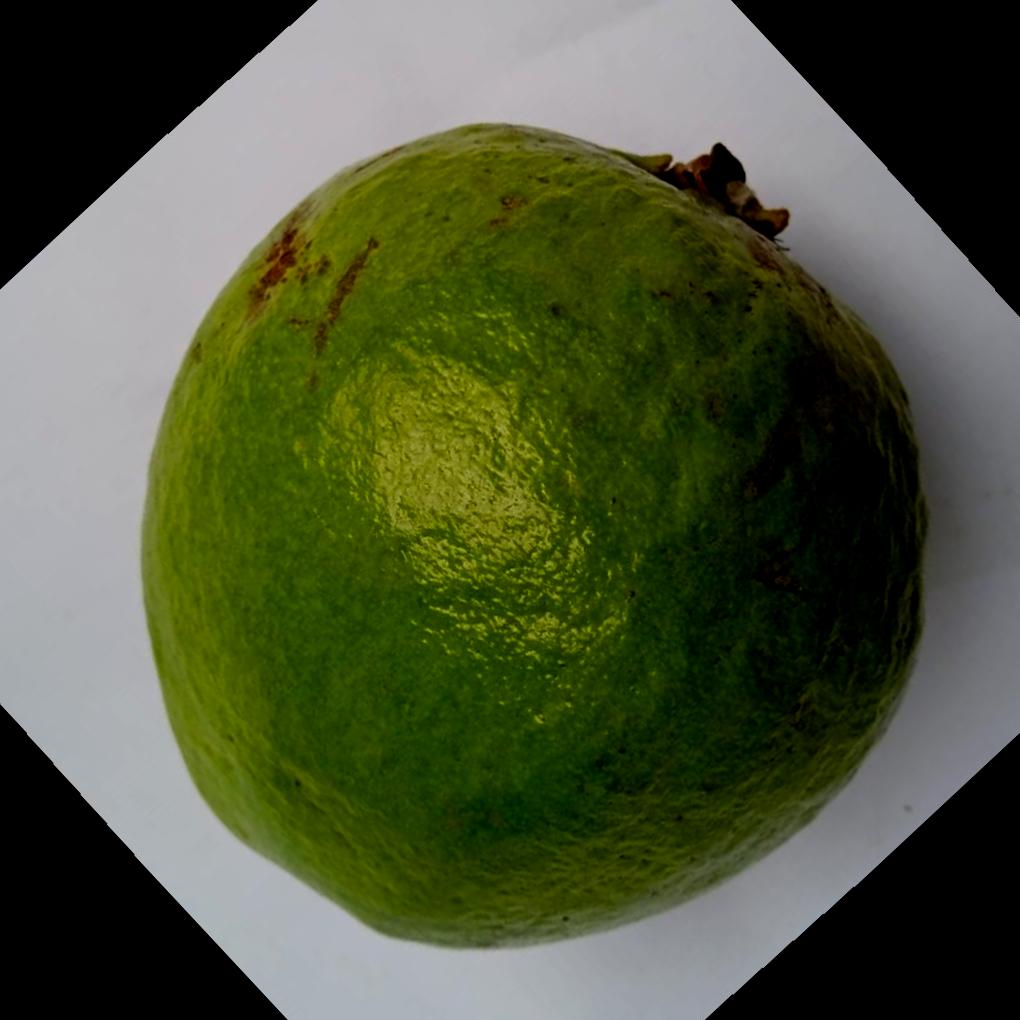FreshGuava: (140, 122, 931, 954)
